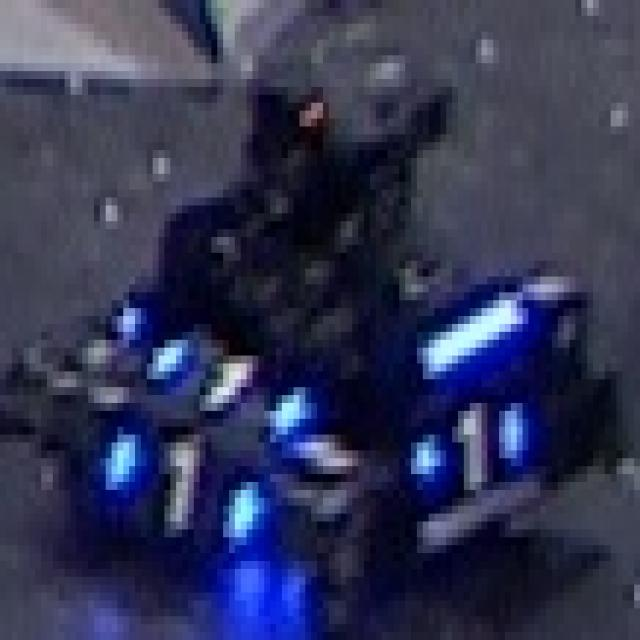B1: (91, 399, 261, 541), (141, 300, 299, 427), (402, 391, 520, 510)
